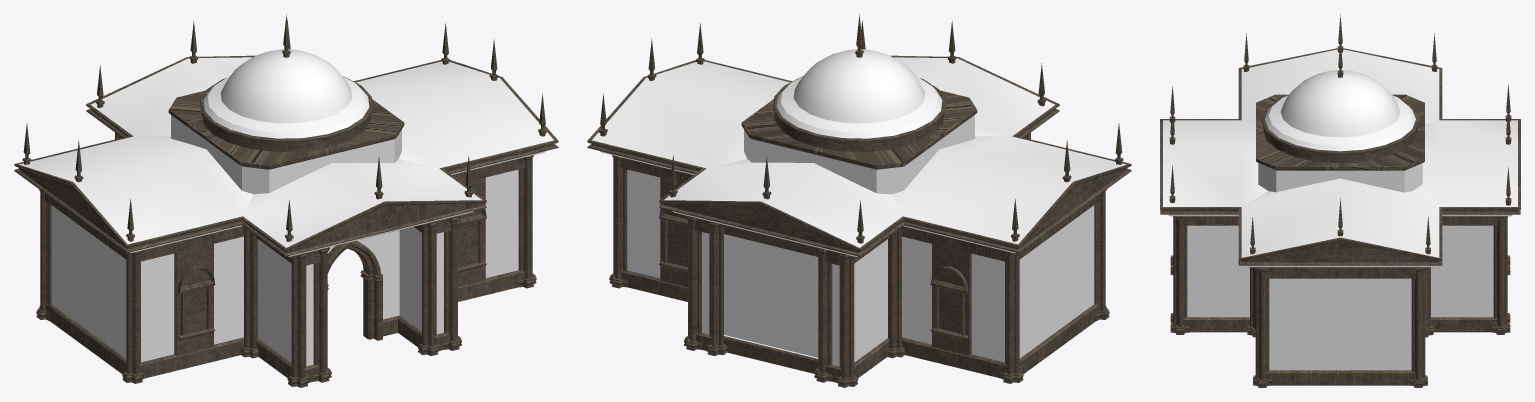
The model's file is NewMausHat.fbx.
3 views of the same model, side by side, from view 1: azimuth 30°, elevation 25°; view 2: azimuth 150°, elevation 25°; view 3: azimuth 270°, elevation 25° (orthographic). The views are drawn at different scales.
Parts seen in each view (by area): view 1: Mausoleum_Hat; view 2: Mausoleum_Hat; view 3: Mausoleum_Hat.
Boxes of the visible parts, box(x1,y1,x2,y2) form: Mausoleum_Hat: box(14, 14, 558, 387); Mausoleum_Hat: box(587, 14, 1131, 387); Mausoleum_Hat: box(1160, 14, 1520, 387).
Bounding box in the file's own units: 2671 × 1690 × 2131.
